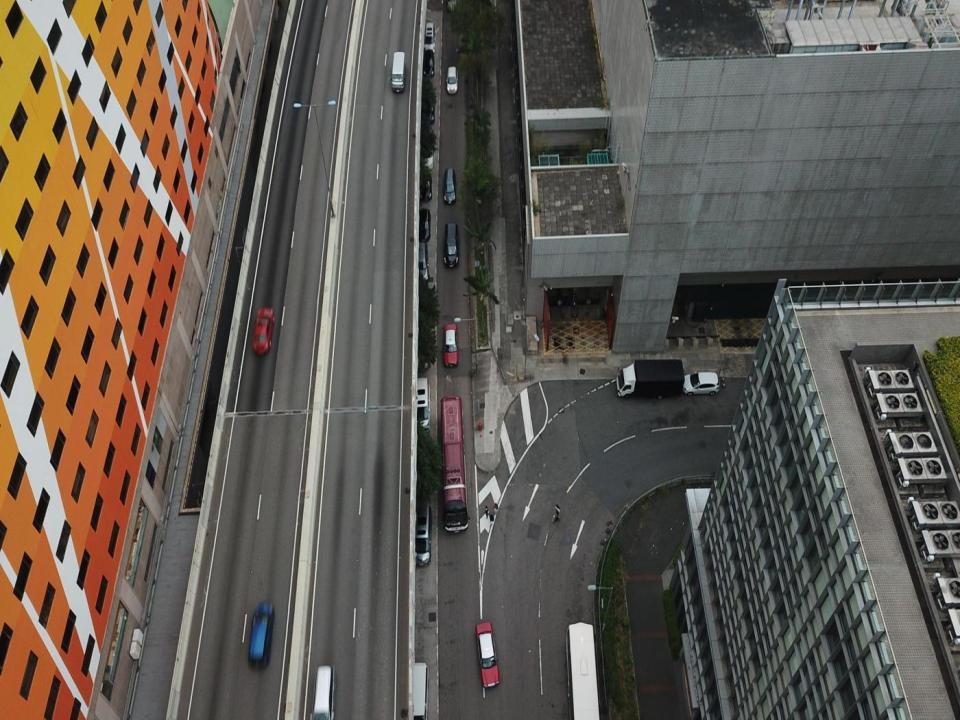bus: (437, 392, 472, 534)
car: (245, 598, 275, 672), (407, 495, 433, 570), (476, 620, 503, 690), (401, 657, 431, 719), (309, 662, 338, 719), (409, 370, 431, 435), (251, 302, 275, 352), (683, 367, 719, 394), (407, 240, 428, 282), (442, 323, 460, 368), (413, 129, 432, 170), (418, 88, 436, 127), (413, 165, 432, 200), (441, 167, 458, 205), (412, 207, 431, 241), (419, 21, 436, 53), (418, 46, 434, 78), (444, 65, 458, 93)
truck: (615, 356, 685, 401)
van: (439, 220, 460, 270), (389, 51, 407, 93)
